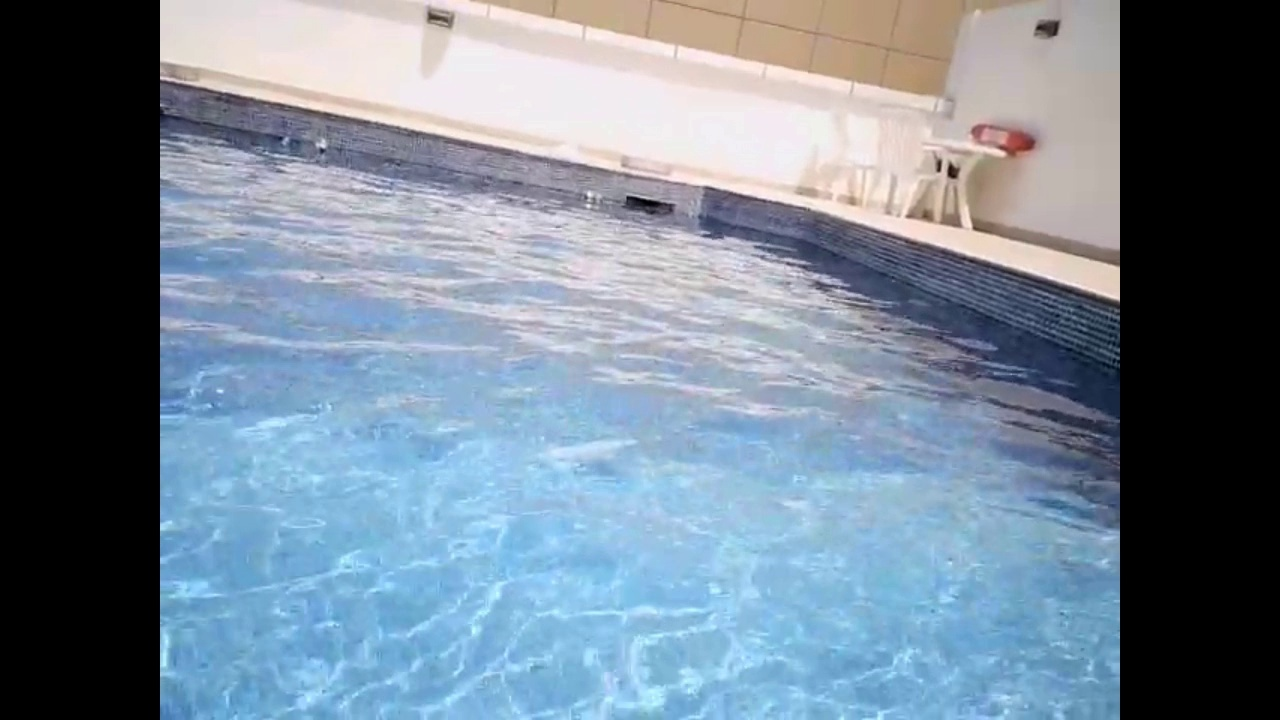debris: (579, 187, 607, 210), (309, 135, 334, 158), (277, 133, 294, 151)
